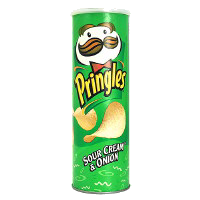grozi_35: (71, 8, 130, 194)
